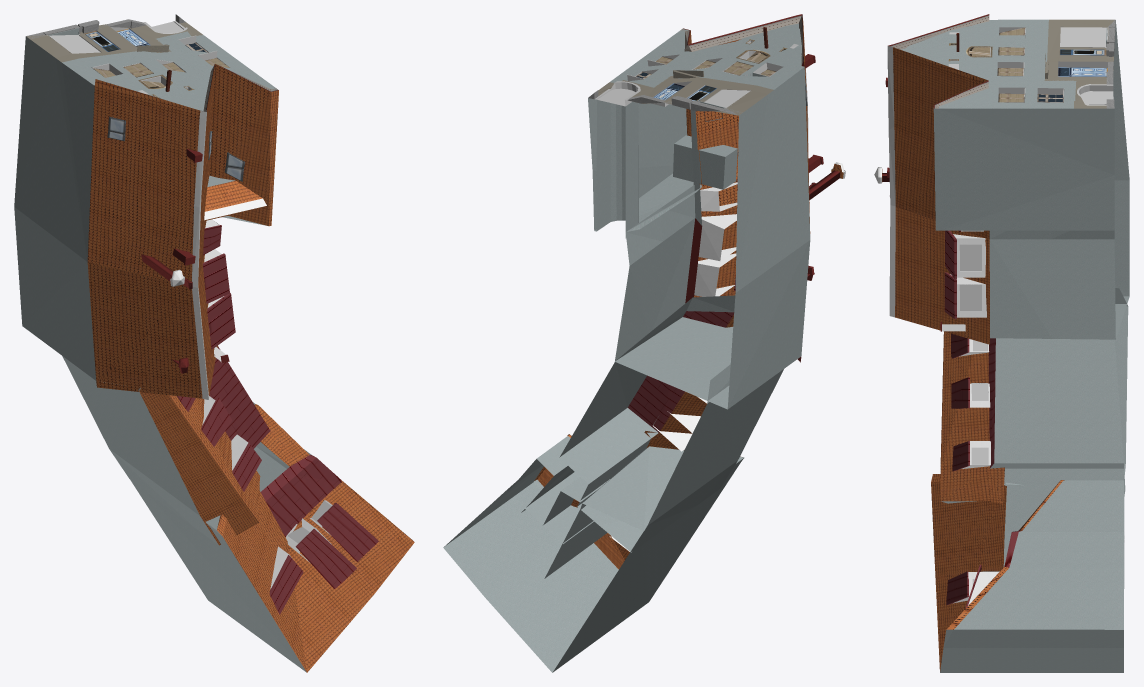
The model's file is Viru_8-origo.obj.
3 renders of one model, left to right at view 1: azimuth 30°, elevation 25°; view 2: azimuth 150°, elevation 25°; view 3: azimuth 270°, elevation 25°, orthographic. The views are drawn at different scales.
Visible parts, largest first — view 1: Viru_8; view 2: Viru_8; view 3: Viru_8.
Boxes of the visible parts, bbox=[...] form: Viru_8: bbox=[14, 14, 414, 672]; Viru_8: bbox=[443, 14, 845, 672]; Viru_8: bbox=[874, 14, 1129, 672].
Size of the model in its own units: 23.62 by 46.5 by 18.52.
